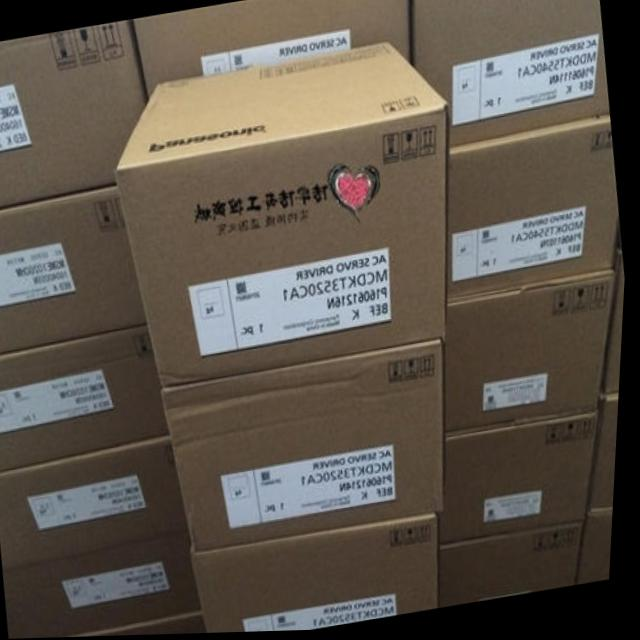box: (118, 45, 448, 389), (166, 345, 449, 554), (449, 123, 622, 304), (412, 0, 612, 149), (197, 515, 446, 634), (132, 0, 413, 104), (0, 23, 149, 208), (450, 275, 618, 438), (0, 323, 175, 475), (1, 434, 192, 569), (0, 186, 151, 356), (445, 417, 605, 550), (10, 535, 207, 639), (445, 527, 591, 609), (71, 614, 211, 638), (595, 398, 623, 515), (607, 253, 628, 401), (583, 512, 619, 587)
